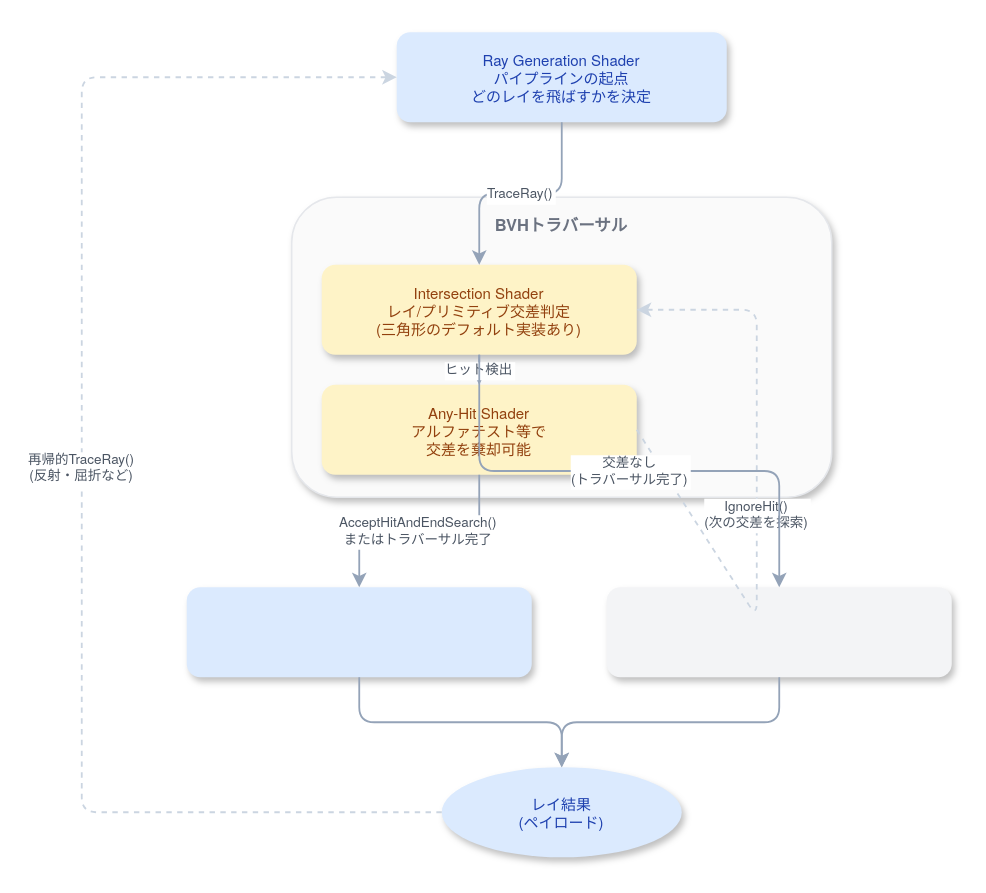
The diagram is 986 pixels wide and 893 high, and some of its shapes have lost their labels. Here are the shapes that lost their labels. From the top down, the centre of each, then its label:
[360,633]: Closest-Hit Shader 最近接ヒット点でシェーディング (ピクセルシェーダに相当)
[780,633]: Miss Shader 全ジオメトリを外した場合 (環境マップ参照など)
